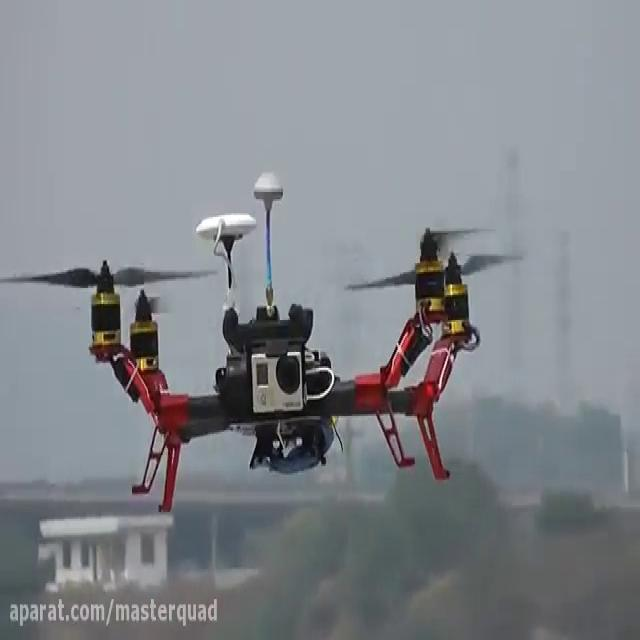drone: (0, 165, 529, 521)
